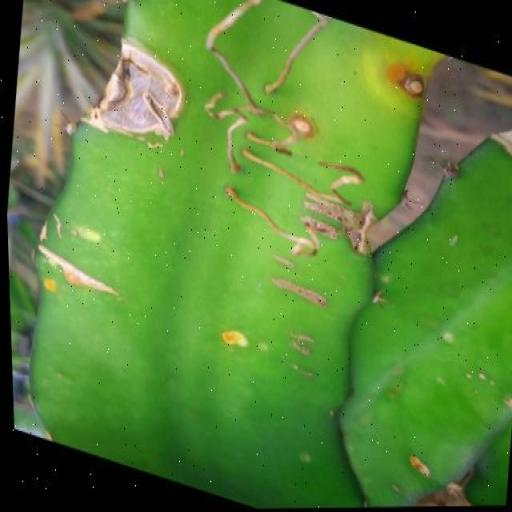stemcanker: (192, 305, 222, 365), (155, 170, 170, 203), (202, 269, 216, 298), (268, 480, 282, 506), (286, 457, 300, 478)
